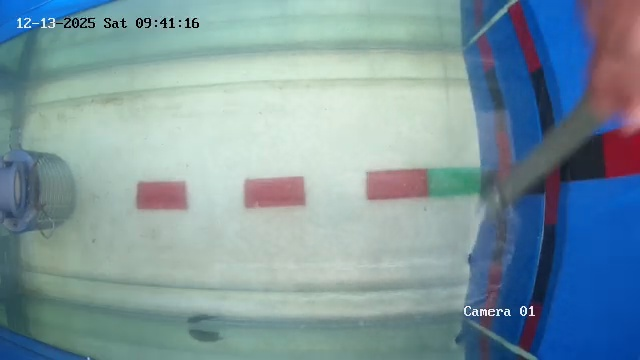fish: (184, 312, 228, 330)
